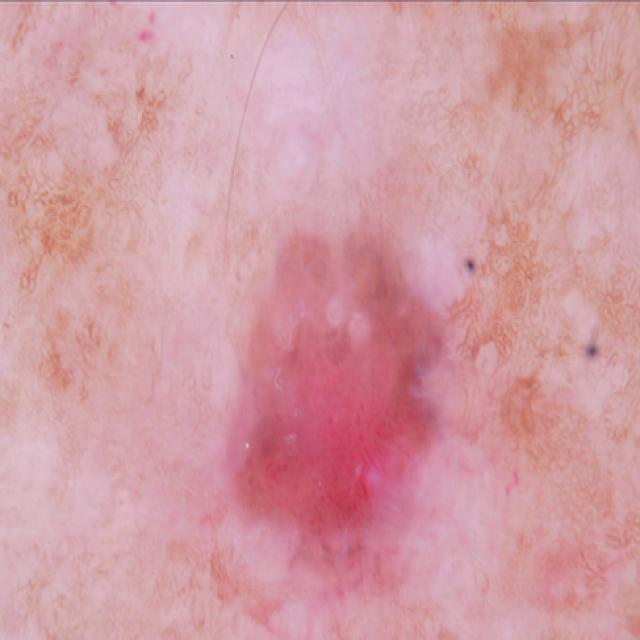Keratosis: (156, 203, 525, 606)
